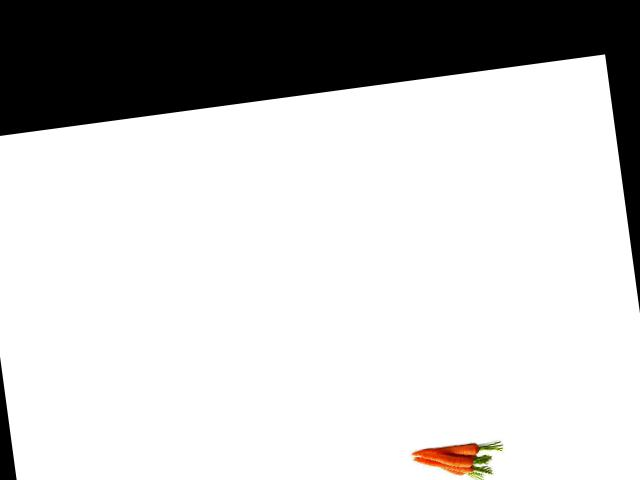carrot: (410, 439, 478, 462)
